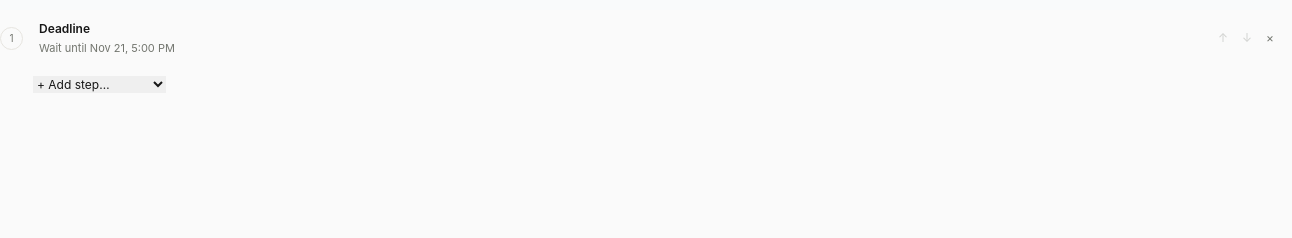
Scenario: displays the deadline using its own offset instead of today's DST offset
The image size is (1292, 238).
Click the button titled "Edit step". click: point(64, 28)
box: [33,16,1202,60]
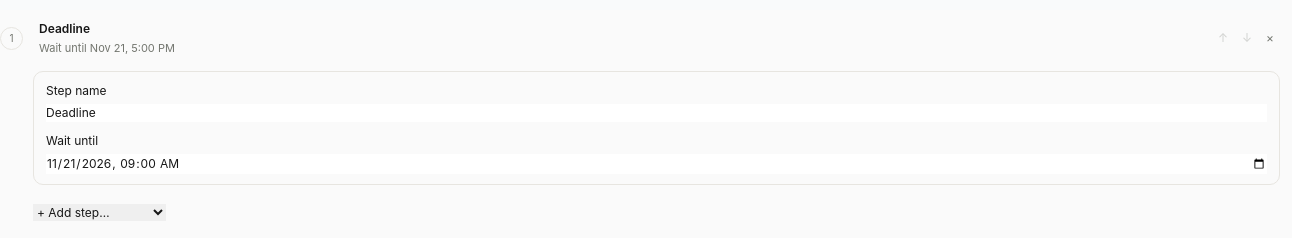
Expected: the field labelled "Wait until" holds "2026-11-21T09:00", [46,154,1267,174]
